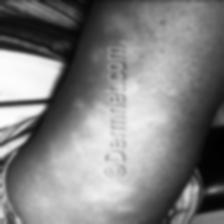Non-Cancerous Skin Condition: (85, 181, 135, 217)
